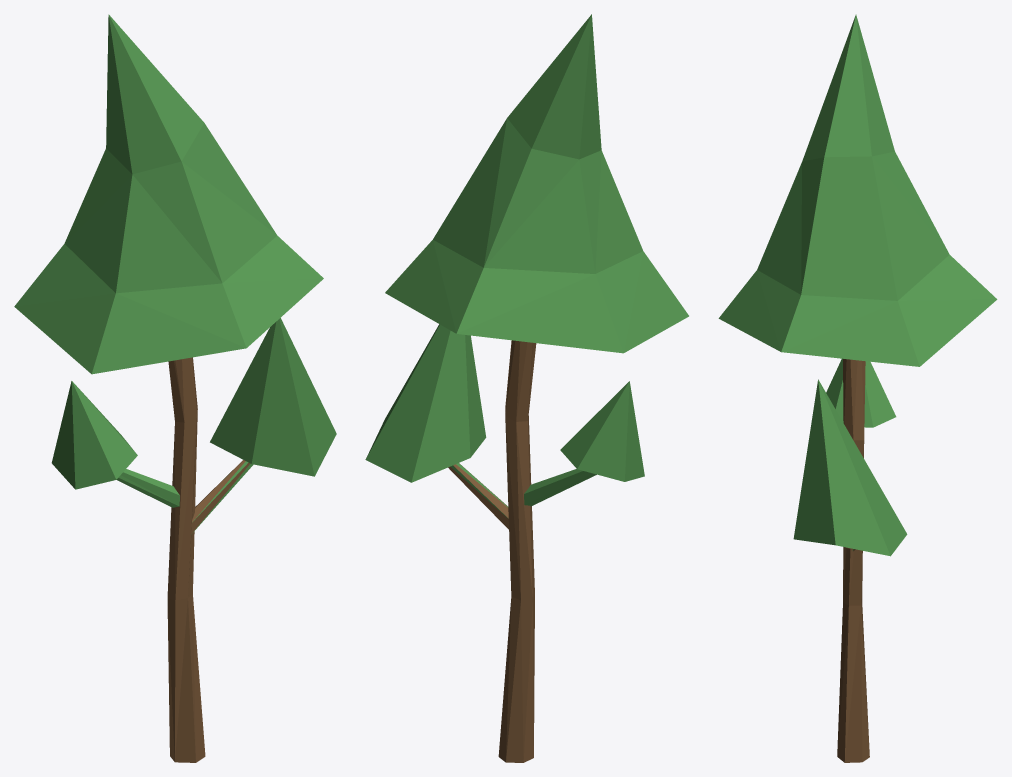
File: tree3d-041.glb
3 views of the same model, side by side, from view 1: azimuth 30°, elevation 25°; view 2: azimuth 150°, elevation 25°; view 3: azimuth 270°, elevation 25° (orthographic). The views are drawn at different scales.
Visible parts, largest first — view 1: tree3d-041; view 2: tree3d-041; view 3: tree3d-041.
Boxes of the visible parts, <box> form: tree3d-041: <box>14,14,336,762</box>; tree3d-041: <box>365,14,688,762</box>; tree3d-041: <box>718,14,997,762</box>.
Bounding box in the file's own units: 0.3859 × 1 × 0.3573.
